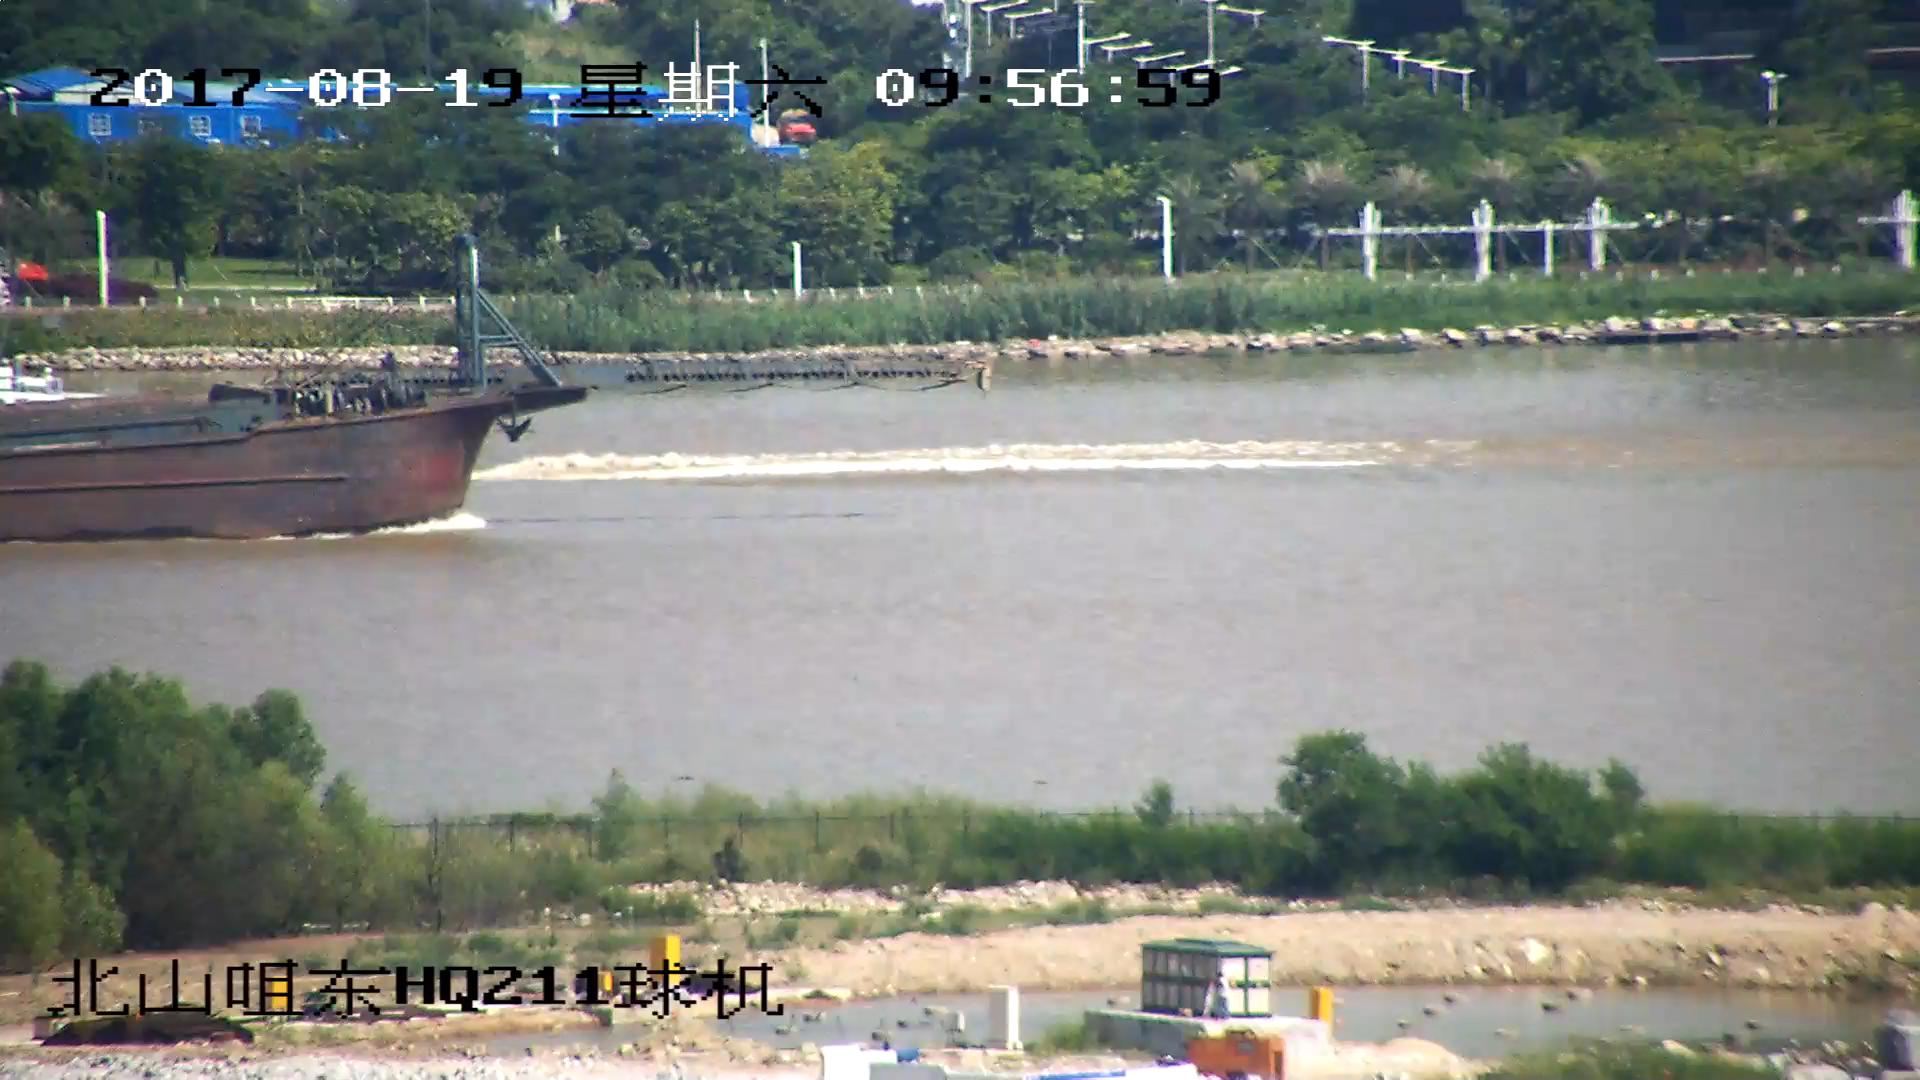bulk cargo carrier: (1, 237, 965, 537)
